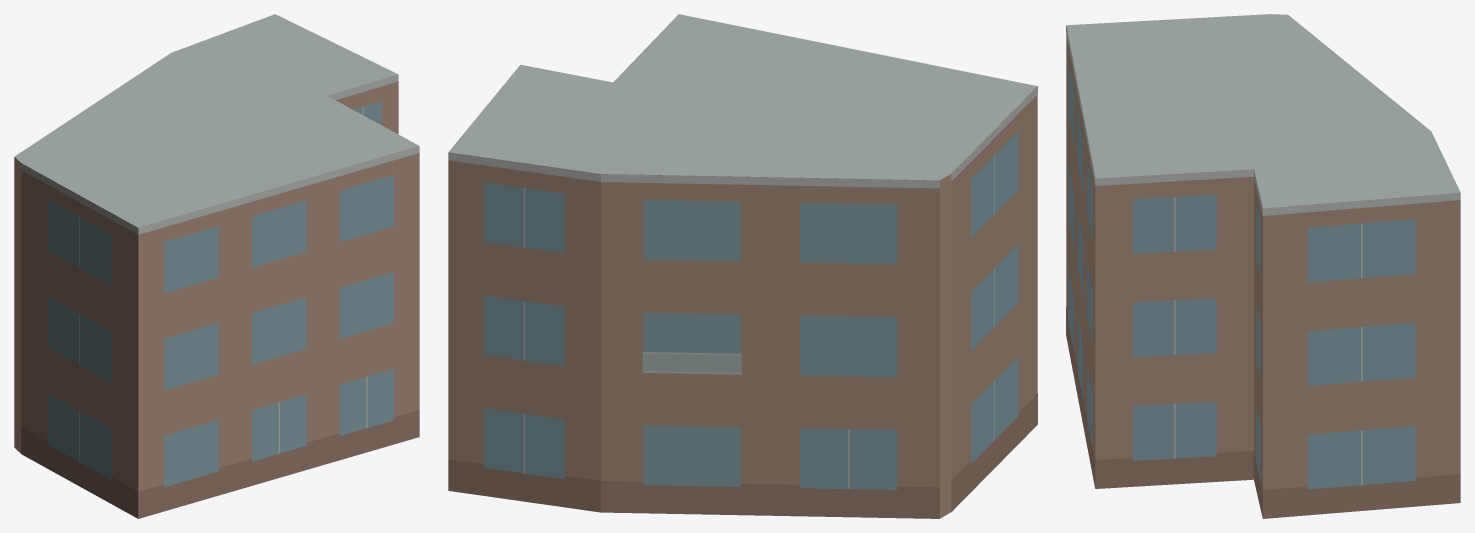
The model's file is survey-upis-32597331.glb.
3 views of the same model, side by side, from view 1: azimuth 30°, elevation 25°; view 2: azimuth 150°, elevation 25°; view 3: azimuth 270°, elevation 25° (orthographic). The views are drawn at different scales.
Visible parts, largest first — view 1: survey-upis-32597331.tmp; view 2: survey-upis-32597331.tmp; view 3: survey-upis-32597331.tmp.
Boxes of the visible parts, box(x1,y1,x2,y2) form: survey-upis-32597331.tmp: box(14, 14, 419, 518); survey-upis-32597331.tmp: box(448, 14, 1037, 518); survey-upis-32597331.tmp: box(1066, 14, 1460, 518).
Size of the model in its own units: 13.72 by 10.2 by 11.76.
